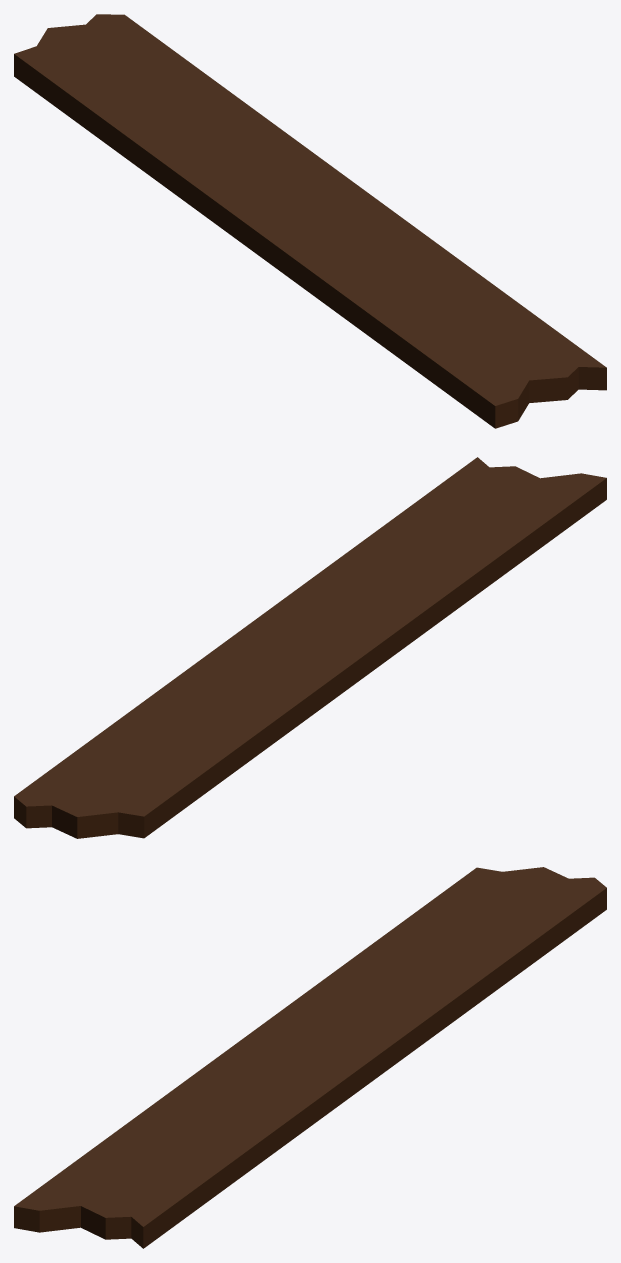
Rendered from Plank.FBX.
3 views of the same model, one above another, from view 1: azimuth 30°, elevation 25°; view 2: azimuth 150°, elevation 25°; view 3: azimuth 330°, elevation 25° (orthographic). The views are drawn at different scales.
Parts seen in each view (by area): view 1: Object061; view 2: Object061; view 3: Object061.
Boxes of the visible parts, left/top/right/bottom form: Object061: left=14, top=14, right=606, bottom=428; Object061: left=14, top=457, right=606, bottom=838; Object061: left=14, top=867, right=606, bottom=1248.
Size of the model in its own units: 71.07 by 12.51 by 501.
